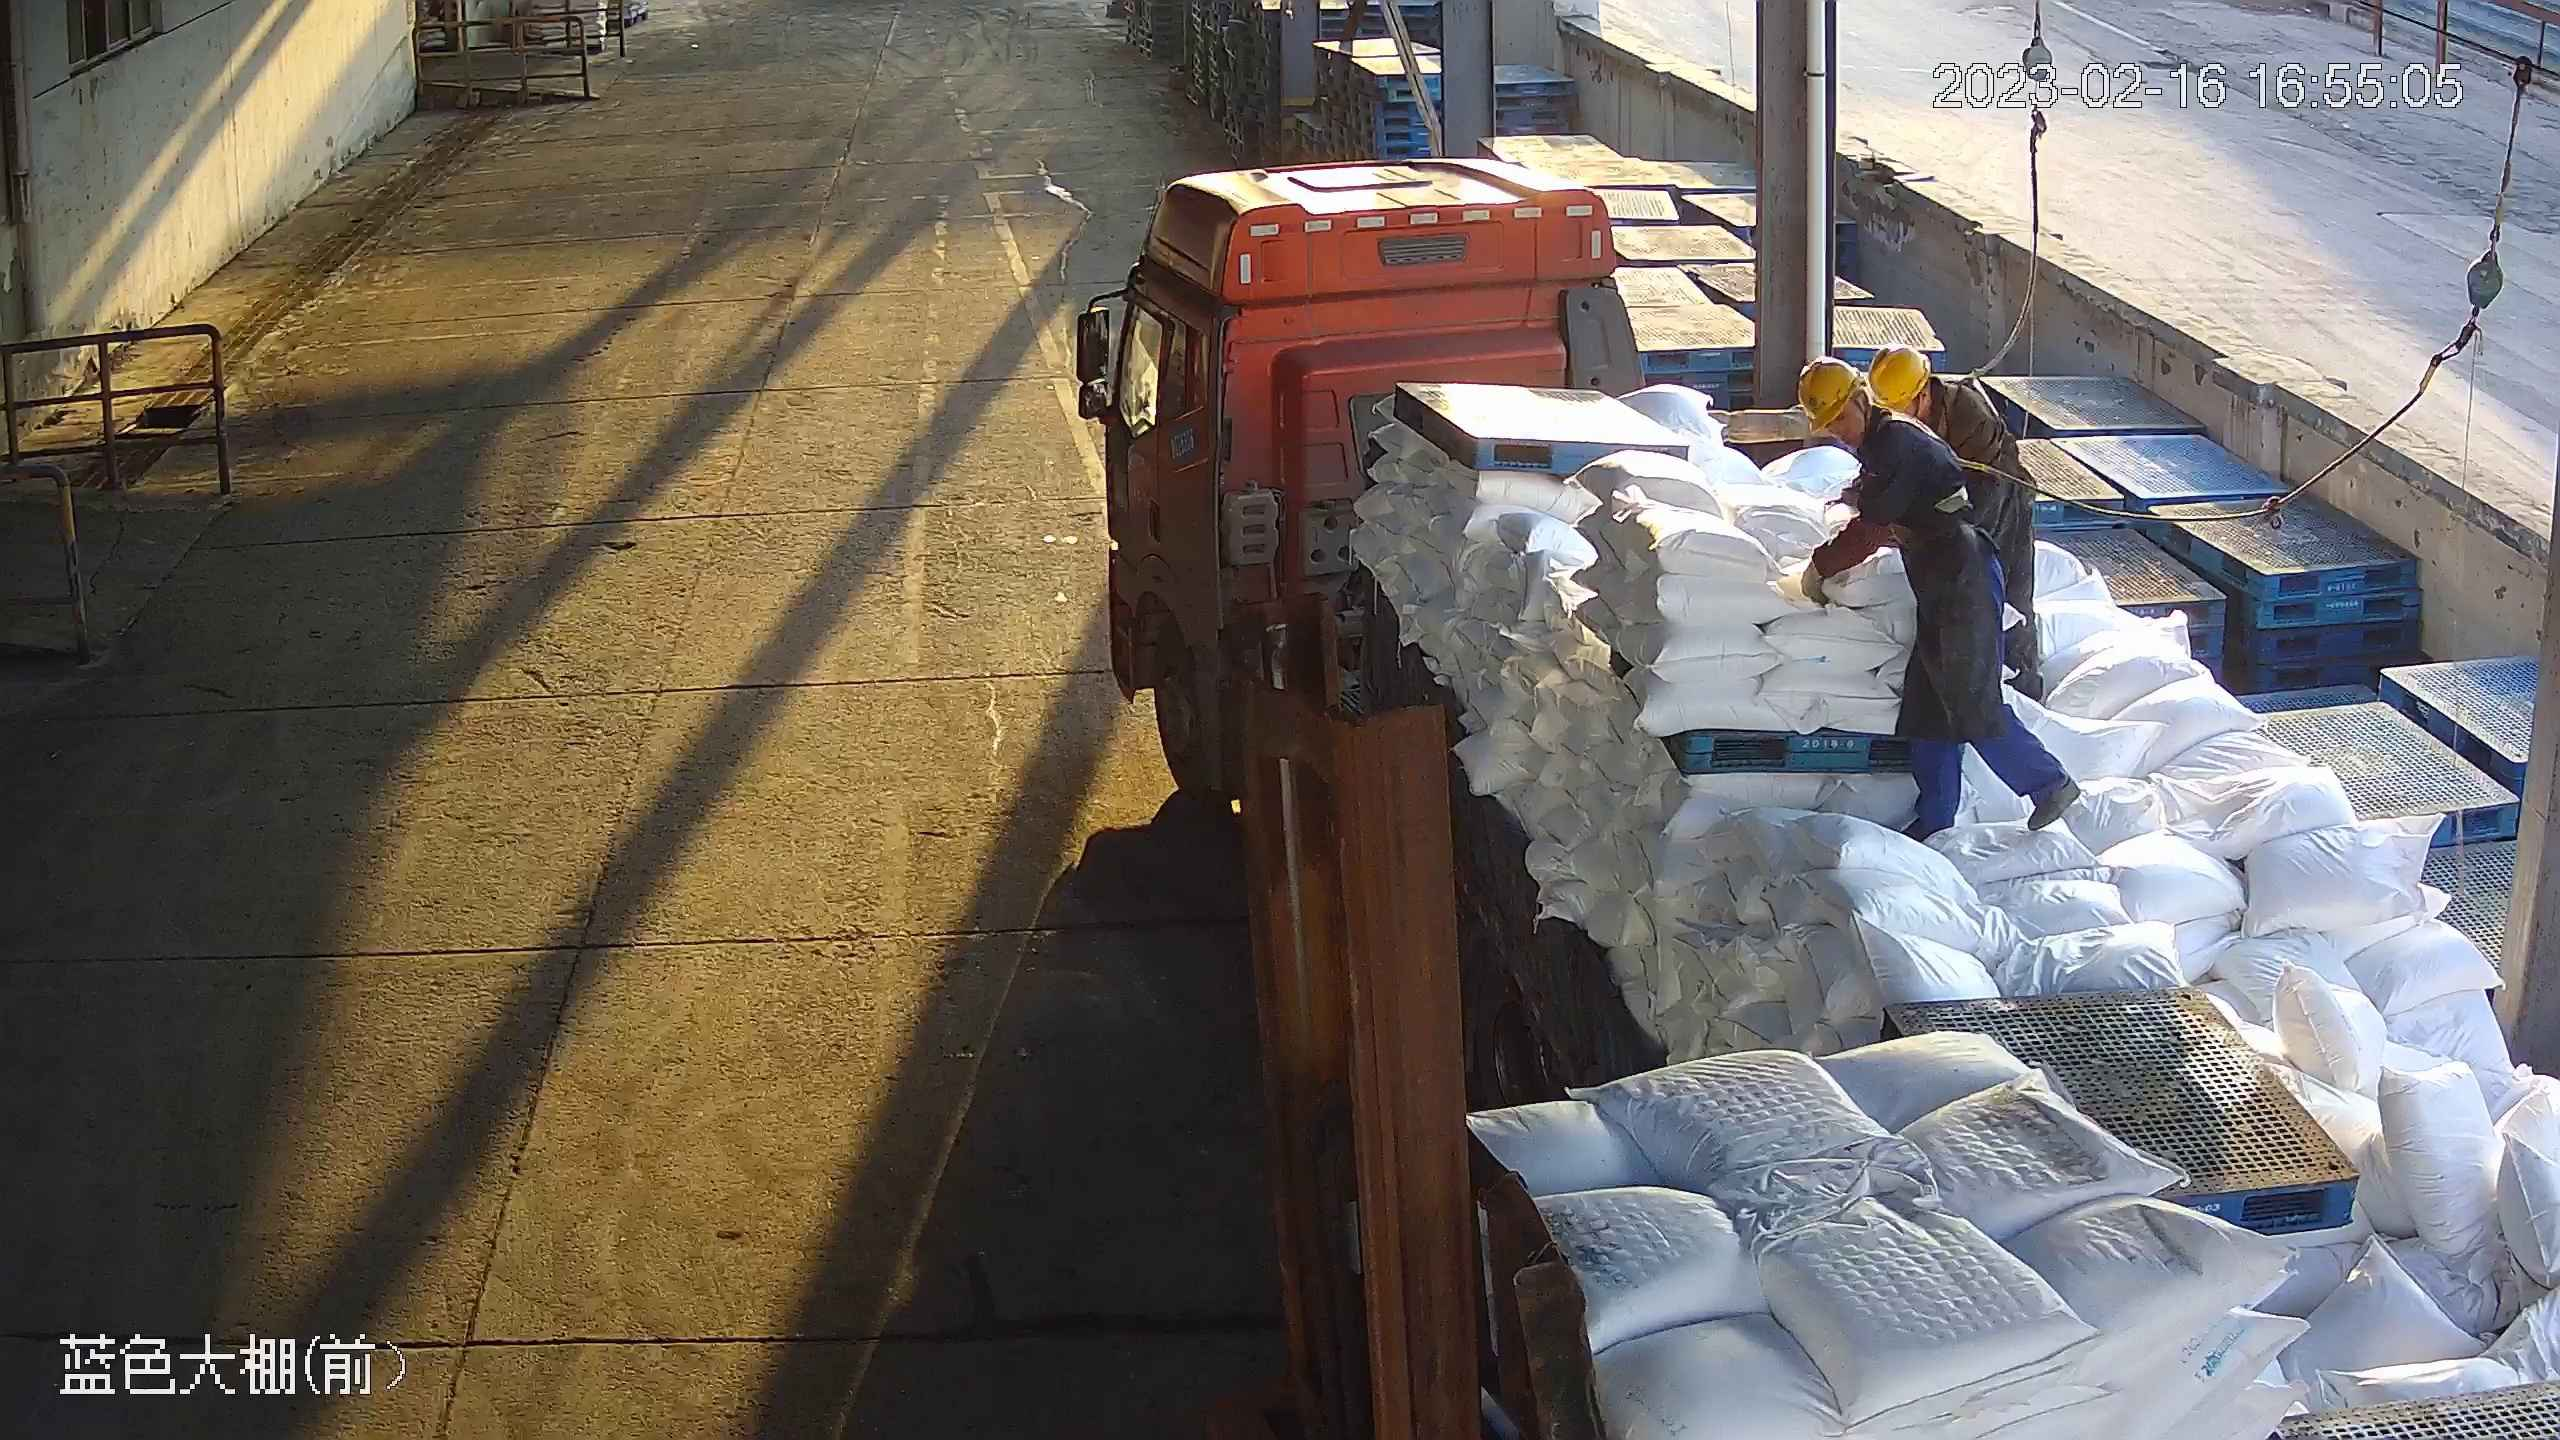belt: (1874, 407, 1976, 514), (1940, 368, 2002, 439)
head: (1795, 353, 1946, 478), (1865, 342, 2001, 452)
helmet: (1797, 354, 1860, 433), (1866, 342, 1931, 408)
people: (1794, 354, 2081, 839), (1866, 342, 2043, 700)
truck: (1074, 157, 2560, 1440)
